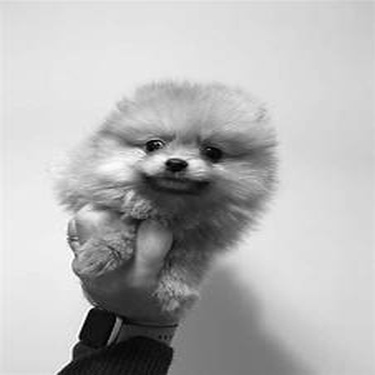dog: (44, 69, 288, 332)
